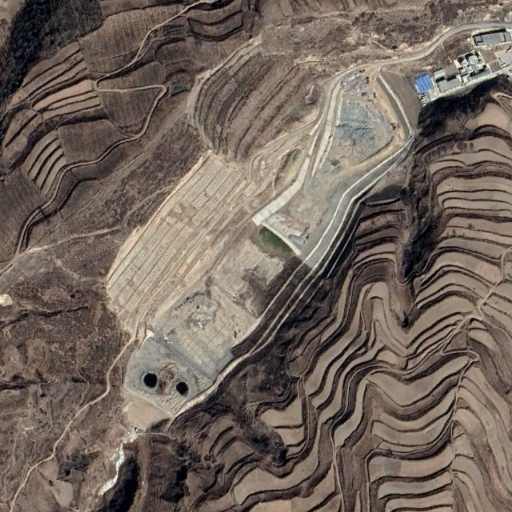lf: (126, 69, 412, 416)
